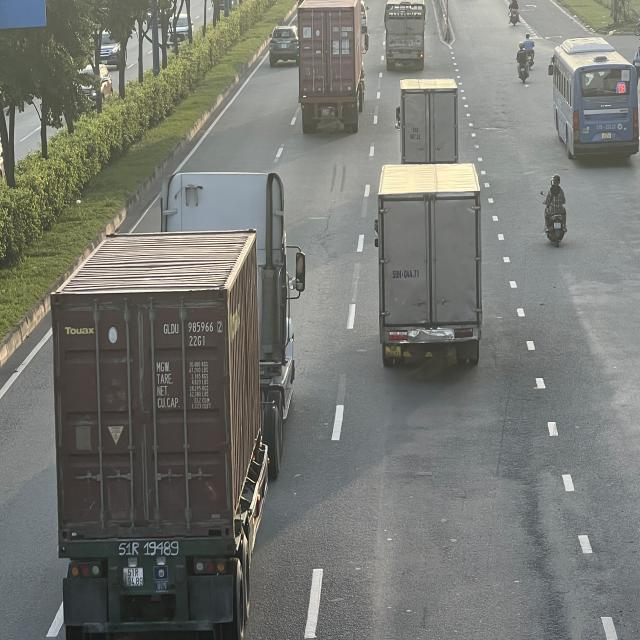car: (270, 24, 300, 66)
coach: (549, 41, 638, 163)
container: (49, 171, 305, 639), (296, 1, 367, 140)
truck: (371, 165, 482, 370), (396, 79, 461, 174), (384, 0, 428, 70)
